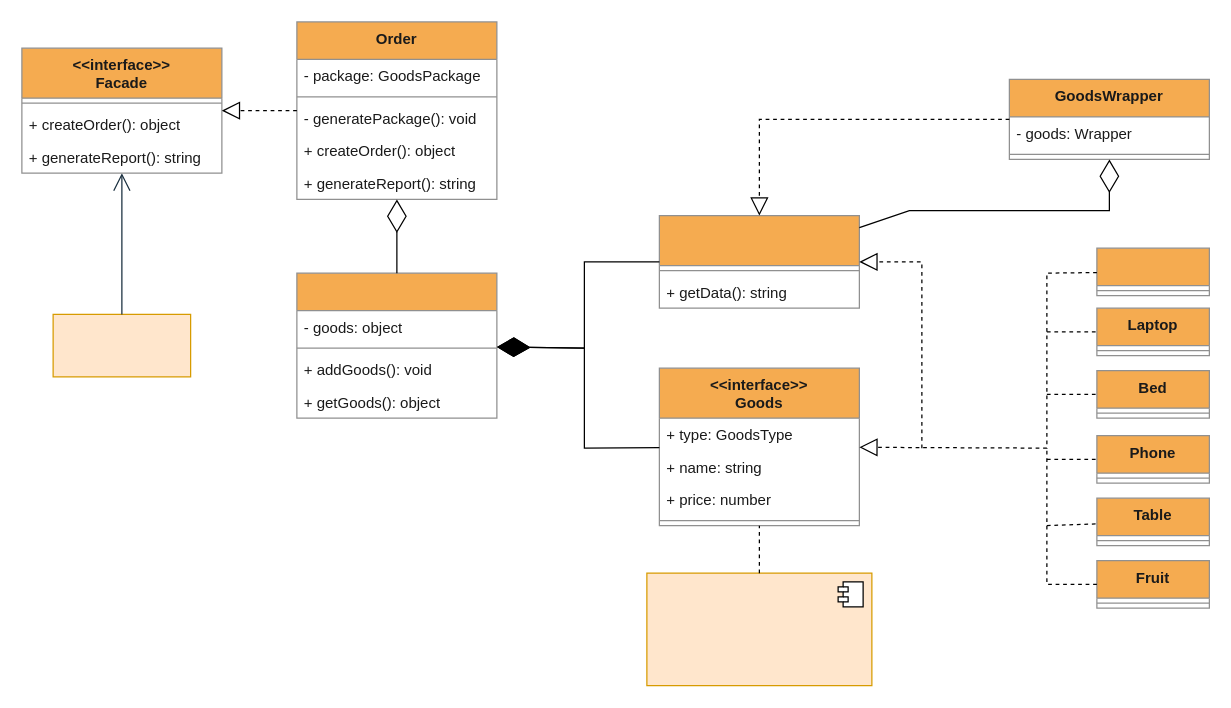
Some shapes in this 1231 by 708 pixel diagram are drawn without their labels. The box of each missing label's shape, as (x1, y1, x2, y2) in pixels:
<<interface>> Wrapper: (658, 214, 859, 308)
Client: (52, 313, 191, 377)
GoodsPackage: (296, 272, 497, 418)
Meat: (1096, 247, 1209, 296)
«Annotation» GoodsType is enum: (646, 572, 872, 686)
